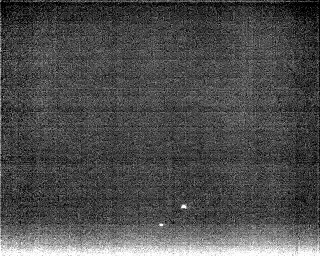BIRD: (157, 220, 166, 229)
